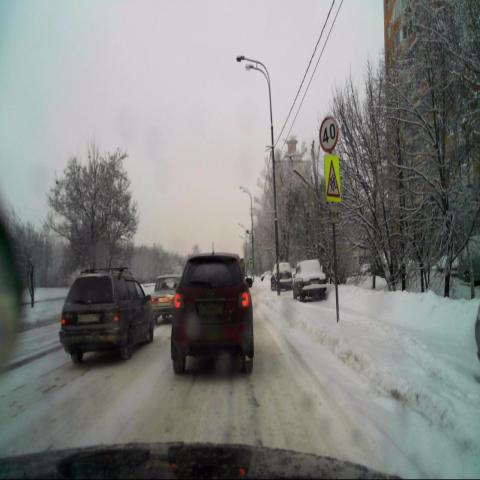3_24: (318, 114, 339, 153)
